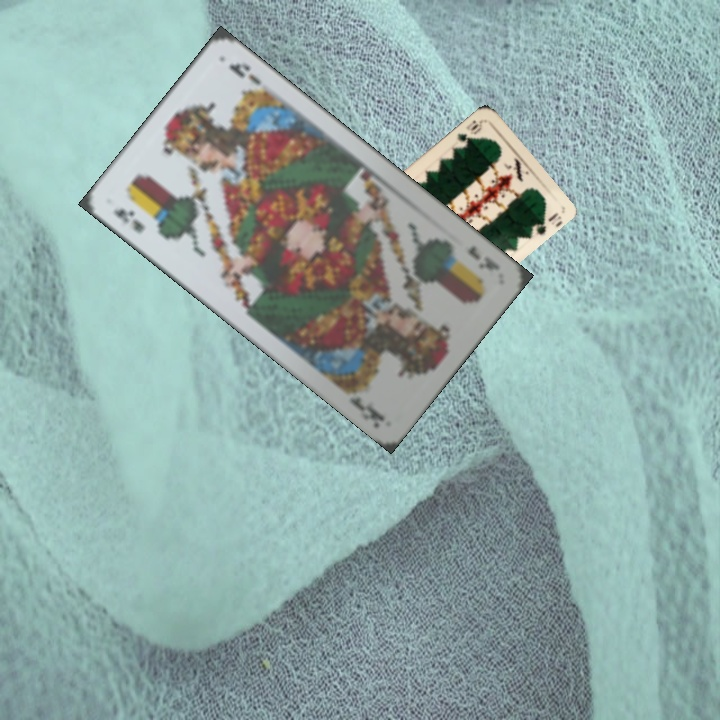EK: (463, 241, 503, 274), (109, 204, 148, 236)
G10: (453, 116, 485, 145)
